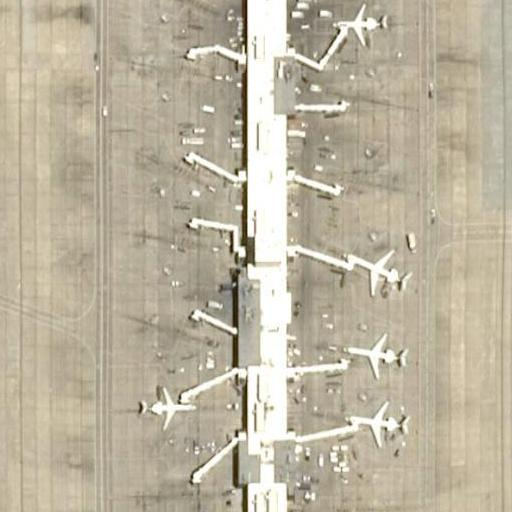Aircraft: (342, 242, 412, 296), (342, 398, 405, 449), (344, 328, 405, 374), (135, 381, 200, 422), (332, 5, 383, 46)
